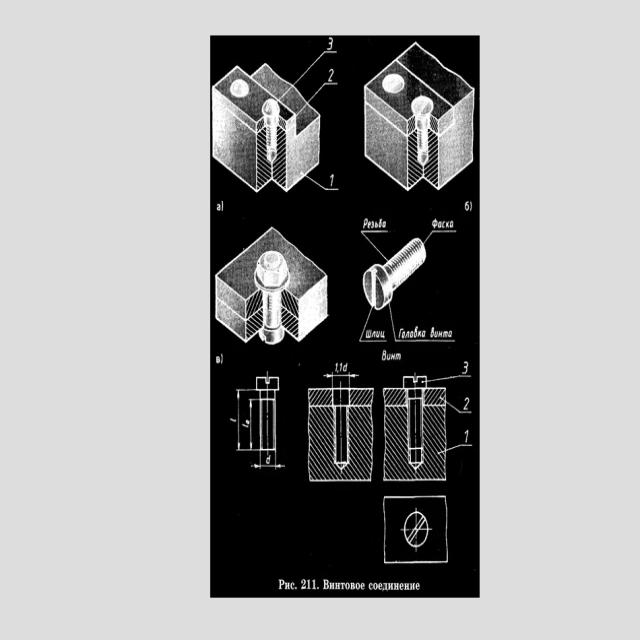marking_line: (234, 388, 256, 452), (249, 452, 286, 469), (248, 399, 259, 452), (323, 371, 359, 387)
numeric: (462, 359, 468, 376), (463, 397, 470, 411), (329, 174, 335, 189), (464, 429, 470, 444), (328, 68, 334, 82), (327, 37, 333, 50), (306, 579, 311, 590), (338, 362, 343, 372), (301, 579, 306, 589), (334, 362, 338, 373), (312, 579, 315, 590)
